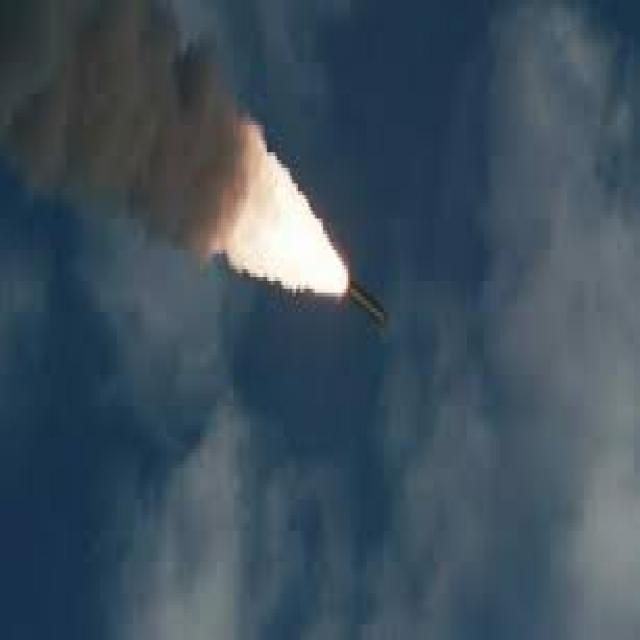missile: (337, 268, 391, 328)
